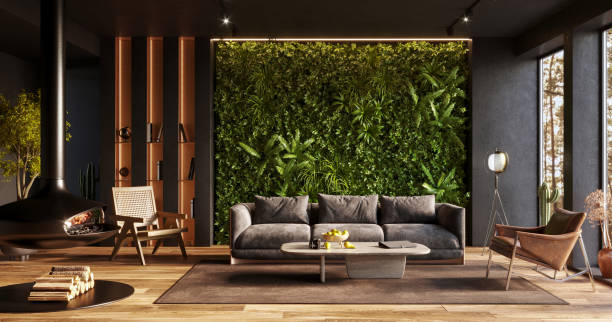chair: (483, 205, 598, 293), (108, 184, 189, 267)
floor lamp: (481, 142, 512, 259)
large plant: (0, 89, 47, 199)
sofa: (227, 193, 468, 267)
table: (279, 238, 432, 286)
